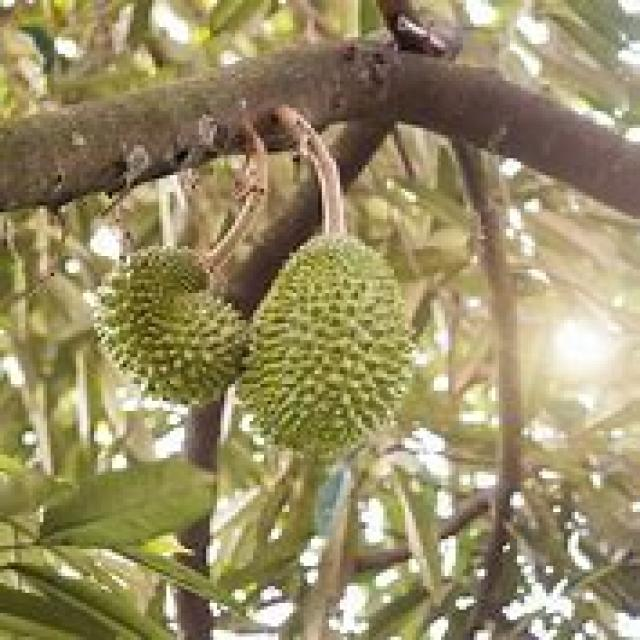immature: (232, 229, 417, 457), (93, 242, 249, 410)
